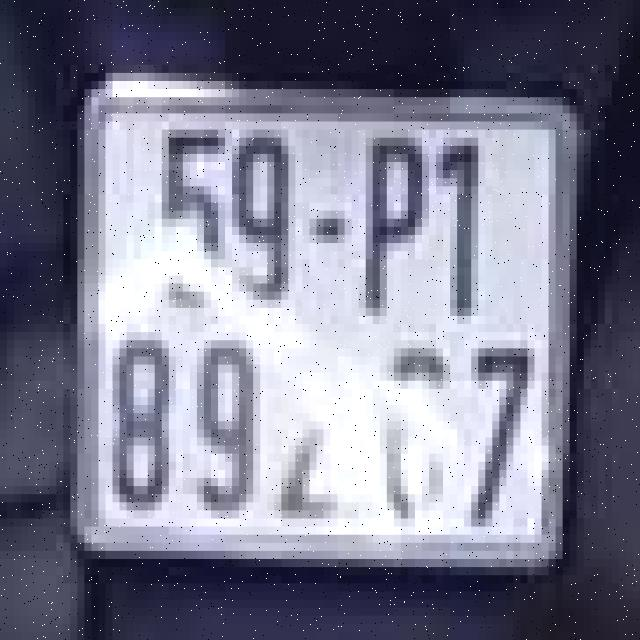1: (432, 113, 503, 324)
2: (271, 344, 348, 522)
5: (148, 117, 232, 312)
6: (369, 328, 461, 539)
7: (464, 324, 542, 543)
8: (98, 324, 183, 519)
9: (225, 97, 302, 316), (186, 328, 264, 531)
P: (352, 122, 422, 324)
